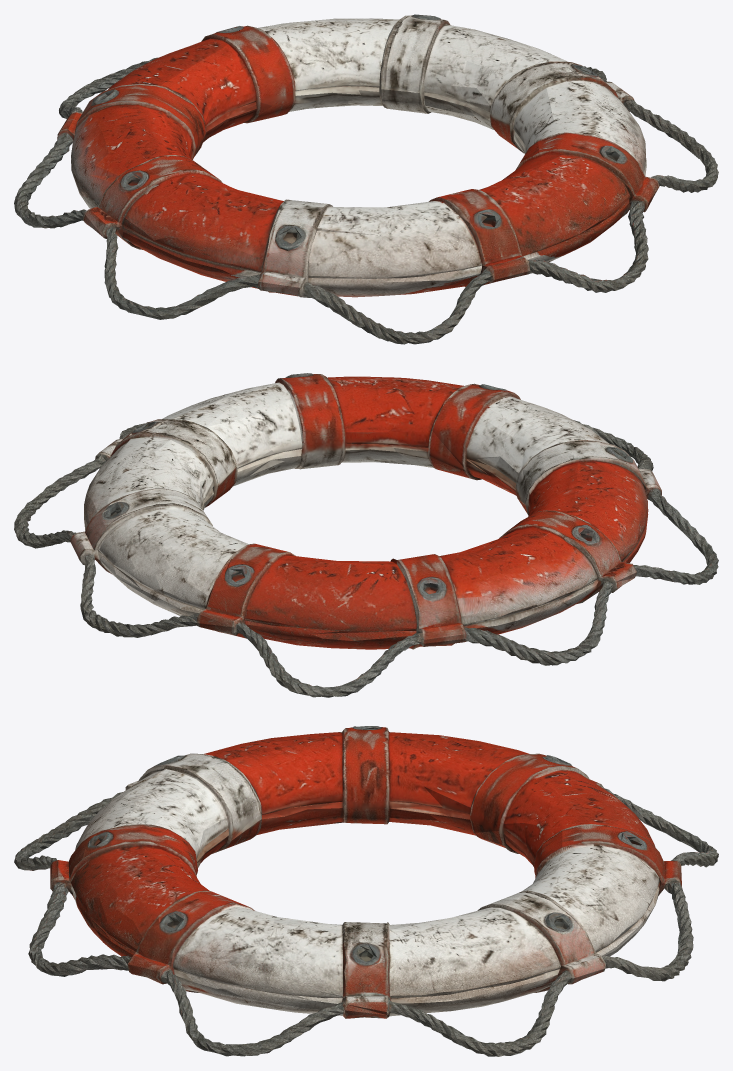
Rendered from salvagente_nave_meshy.glb.
3 renders of one model, top to bottom at view 1: azimuth 30°, elevation 25°; view 2: azimuth 150°, elevation 25°; view 3: azimuth 270°, elevation 25°, orthographic. The views are drawn at different scales.
Visible parts, largest first — view 1: Mesh_0; view 2: Mesh_0; view 3: Mesh_0.
Boxes of the visible parts, x1,y1,x2,y2 form: Mesh_0: (14,14,718,344); Mesh_0: (14,373,718,697); Mesh_0: (14,726,718,1056).
Bounding box in the file's own units: 1.89 × 0.2397 × 1.89.
1 material, 1 textured.
